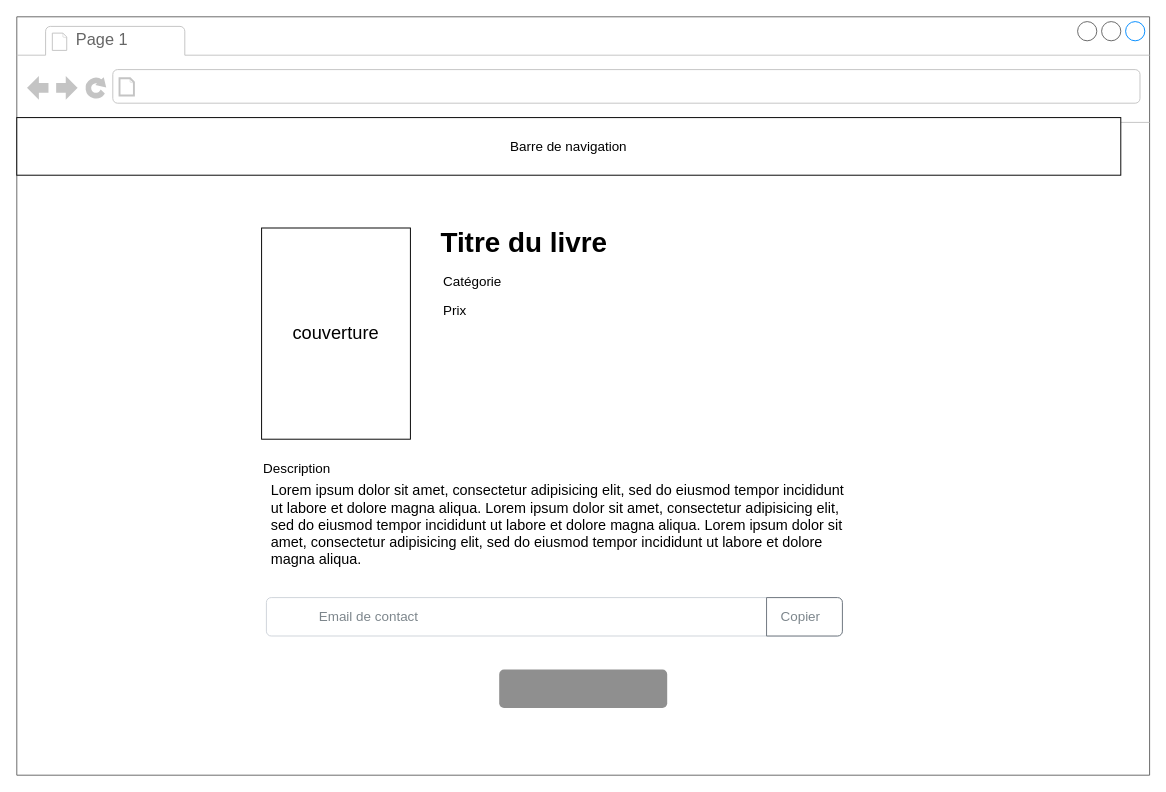
This 1166x792 diagram has some shape labels left out. The shapes that lost their labels are listed below. From the top down, each one's centre as x and y in pixels, then its label:
the point at 261,86: https://www.AjouterLivre
the point at 583,688: Retour
